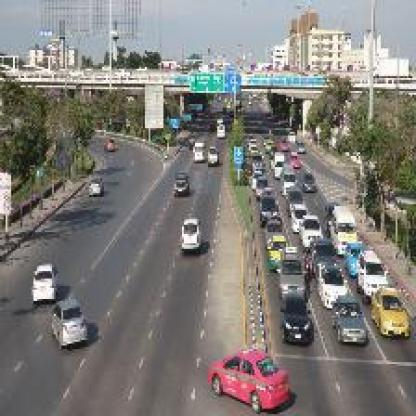other: (204, 338, 298, 408), (370, 279, 408, 346)
